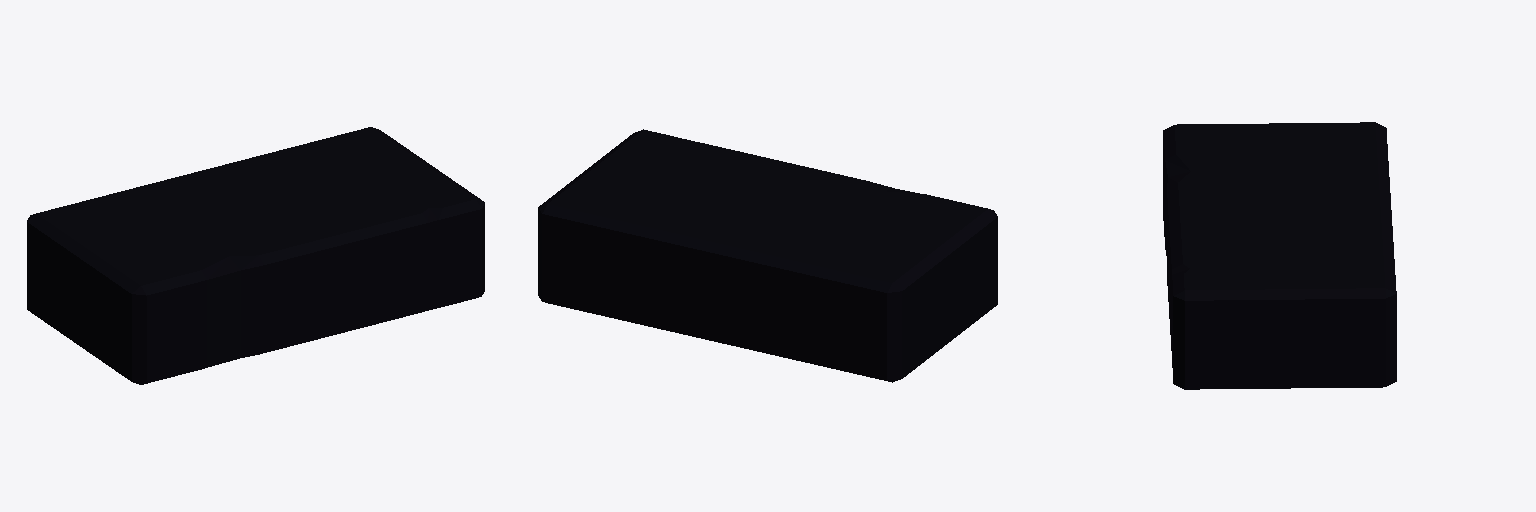
File: Brick.obj
3 views of the same model, side by side, from view 1: azimuth 30°, elevation 25°; view 2: azimuth 150°, elevation 25°; view 3: azimuth 270°, elevation 25° (orthographic).
Parts seen in each view (by area): view 1: Brick_Cube.032; view 2: Brick_Cube.032; view 3: Brick_Cube.032.
Boxes of the visible parts, x1=… form: Brick_Cube.032: x1=27, y1=127, x2=484, y2=384; Brick_Cube.032: x1=538, y1=129, x2=997, y2=382; Brick_Cube.032: x1=1163, y1=122, x2=1396, y2=389.
Size of the model in its own units: 0.7149 by 0.1865 by 0.3972.